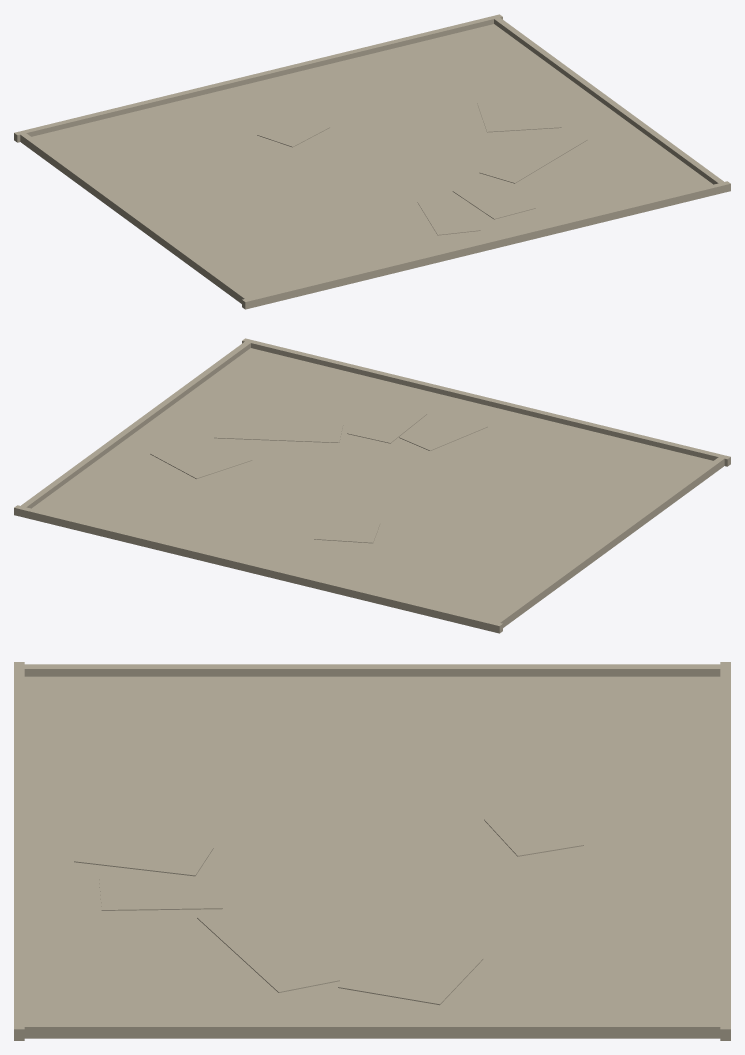
The model's file is hood_play_pad.glb.
3 views of the same model, one above another, from view 1: azimuth 30°, elevation 25°; view 2: azimuth 150°, elevation 25°; view 3: azimuth 270°, elevation 25° (orthographic). The views are drawn at different scales.
Parts seen in each view (by area): view 1: chips, border, bare; view 2: chips, border, bare; view 3: chips, border, bare.
Part boxes in pixels (left/top/right/bottom): chips: left=32, top=24, right=712, bottom=297; border: left=14, top=14, right=730, bottom=309; bare: left=257, top=97, right=587, bottom=235; chips: left=32, top=348, right=712, bottom=621; border: left=14, top=338, right=730, bottom=633; bare: left=150, top=404, right=487, bottom=543; chips: left=24, top=676, right=720, bottom=1022; border: left=14, top=662, right=730, bottom=1040; bare: left=74, top=808, right=583, bottom=1005.
Bounding box in the file's own units: 12.3 × 0.18 × 10.15.
